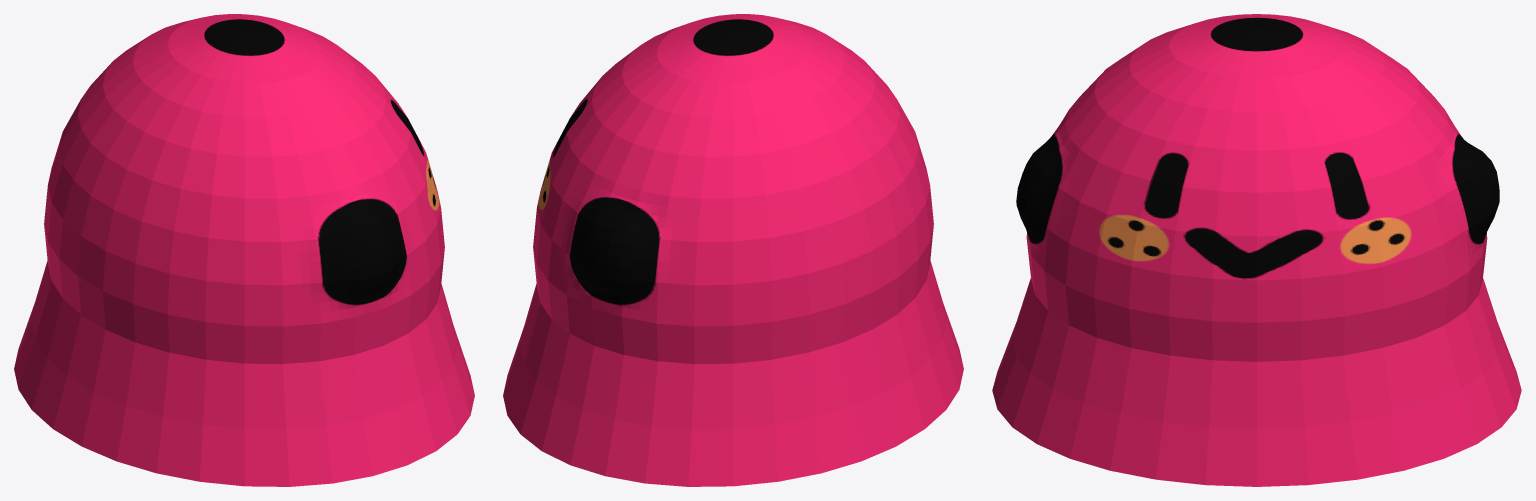
Rendered from Blob Boy v1.fbx.
3 views of the same model, side by side, from view 1: azimuth 30°, elevation 25°; view 2: azimuth 150°, elevation 25°; view 3: azimuth 270°, elevation 25° (orthographic). The views are drawn at different scales.
Parts seen in each view (by area): view 1: Sphere; view 2: Sphere; view 3: Sphere.
Part boxes in pixels (box(x1,y1,x2,y2)): Sphere: box(14, 14, 474, 486); Sphere: box(503, 14, 963, 486); Sphere: box(992, 14, 1521, 486).
Bounding box in the file's own units: 198 × 173 × 230.
